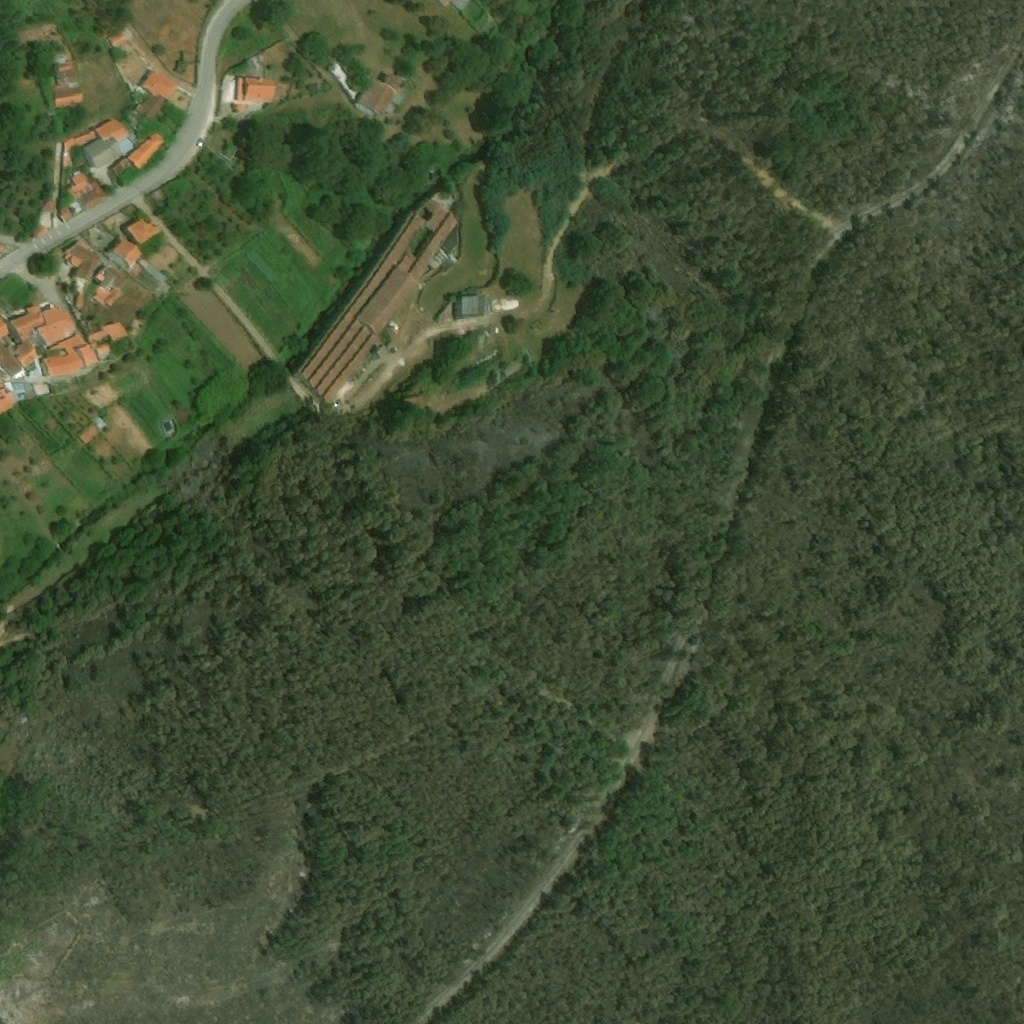0 no-damage: (293, 210, 458, 405), (83, 118, 135, 171), (354, 72, 406, 122), (36, 305, 80, 347), (42, 334, 86, 376), (63, 241, 102, 287), (9, 302, 47, 343), (129, 131, 167, 171), (107, 238, 144, 273), (140, 70, 179, 103), (330, 61, 363, 99), (64, 129, 103, 158), (237, 76, 277, 104), (78, 179, 110, 212), (123, 219, 162, 246), (88, 320, 131, 344), (0, 341, 26, 380), (95, 264, 128, 291), (137, 95, 167, 124), (424, 199, 450, 232), (51, 86, 85, 111), (452, 294, 484, 320), (0, 380, 18, 417), (93, 286, 123, 308), (17, 342, 39, 369), (66, 170, 89, 195), (77, 423, 101, 446), (144, 263, 169, 284), (77, 345, 98, 369), (52, 58, 79, 74), (108, 30, 128, 49), (0, 314, 10, 341), (75, 291, 89, 310), (60, 206, 73, 222), (41, 201, 58, 213), (33, 225, 47, 239), (98, 345, 111, 359), (163, 422, 174, 433), (235, 104, 247, 114)
4 un-classified: (437, 0, 475, 12), (0, 243, 7, 254)
